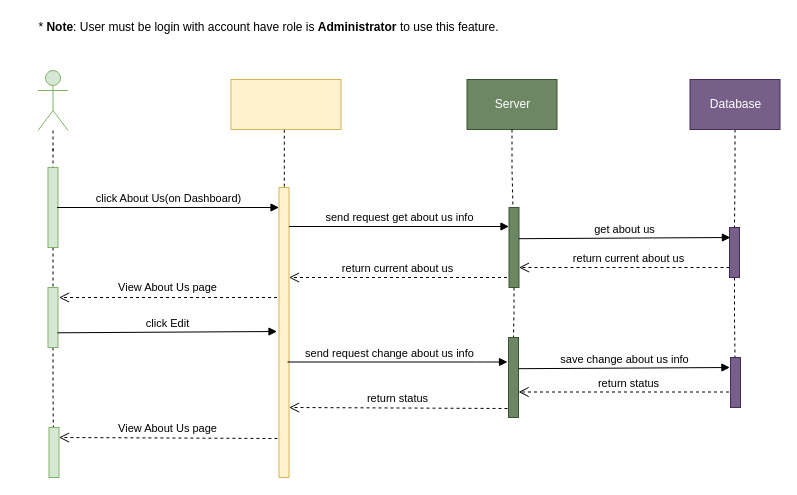
This 797x495 diagram has some shape labels left out. Each missing label, with the centre of its shape:
"Administrator" belongs at point (52, 100).
"Interface - UI" belongs at point (285, 104).
